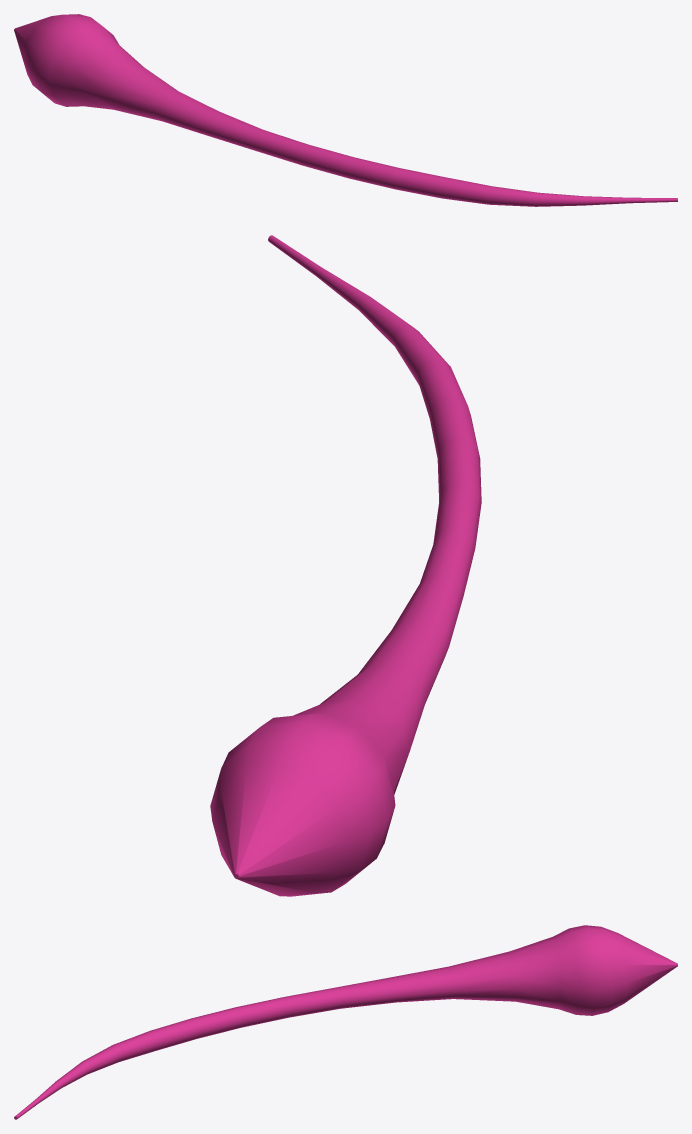
File: Snake_3.fbx
3 renders of one model, top to bottom at view 1: azimuth 30°, elevation 25°; view 2: azimuth 150°, elevation 25°; view 3: azimuth 270°, elevation 25°, orthographic. The views are drawn at different scales.
Visible parts, largest first — view 1: Snake_3; view 2: Snake_3; view 3: Snake_3.
Boxes of the visible parts, x1=… form: Snake_3: x1=14, y1=14, x2=677, y2=206; Snake_3: x1=210, y1=235, x2=481, y2=896; Snake_3: x1=14, y1=925, x2=677, y2=1119.
Size of the model in its own units: 70.73 by 16.36 by 119.
